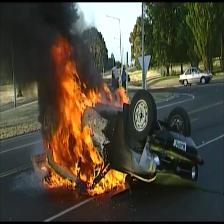fire: (40, 35, 131, 196)
